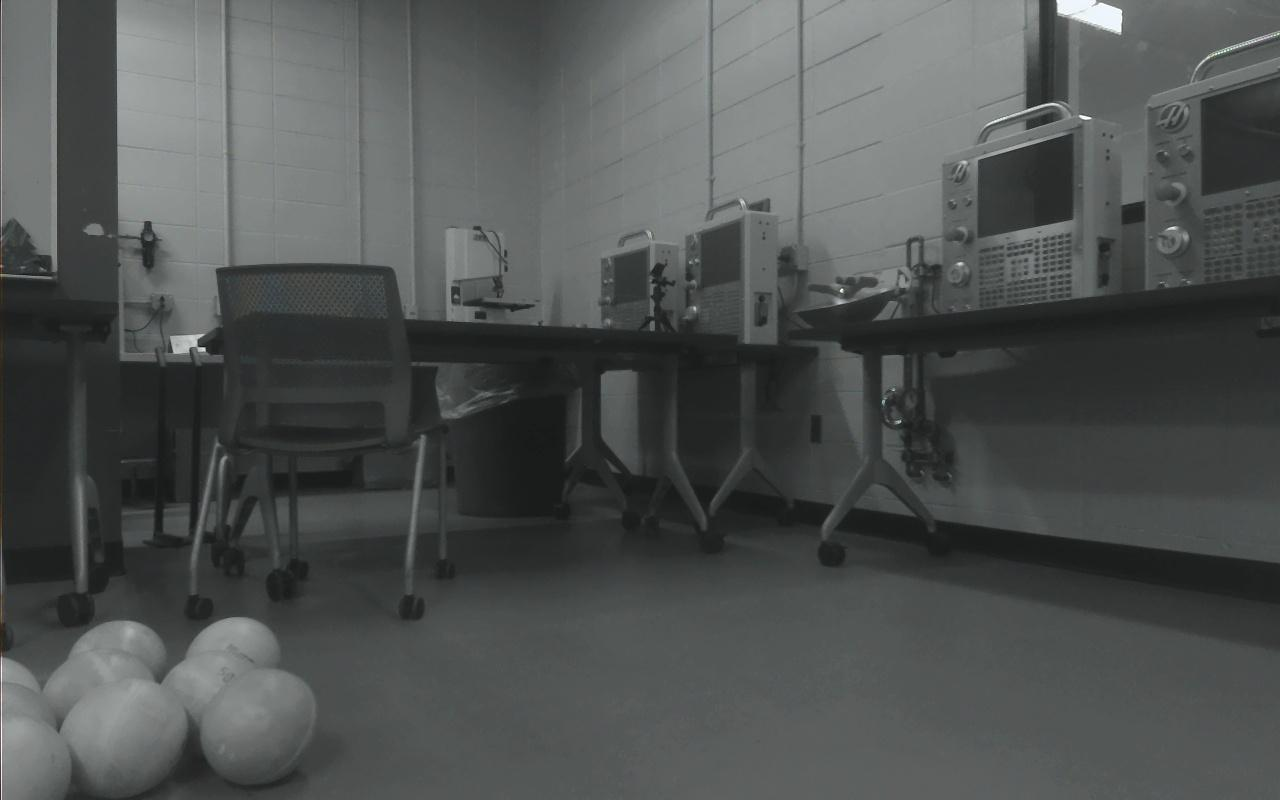Fuel: (58, 676, 189, 799), (198, 666, 317, 787), (160, 647, 264, 759), (41, 647, 156, 733), (67, 619, 169, 682), (0, 713, 72, 800), (184, 616, 282, 670), (0, 680, 58, 734), (0, 656, 44, 700)
